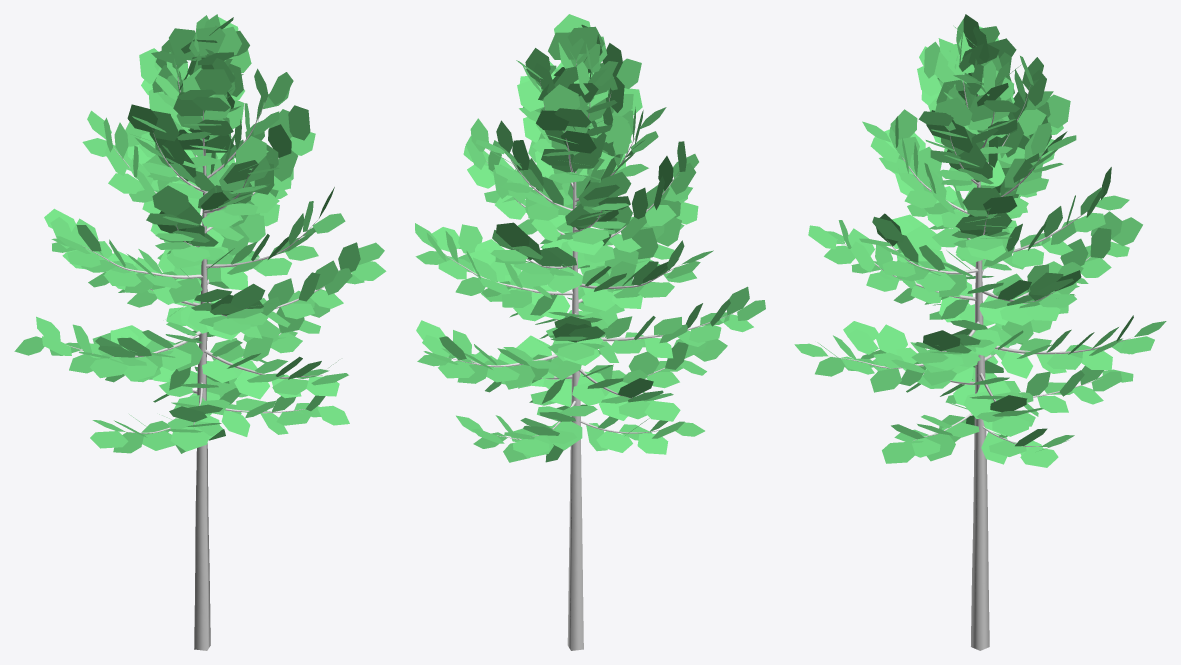
File: Qauking_Aspen_3.glb
3 views of the same model, side by side, from view 1: azimuth 30°, elevation 25°; view 2: azimuth 150°, elevation 25°; view 3: azimuth 270°, elevation 25° (orthographic). The views are drawn at different scales.
Visible parts, largest first — view 1: leaves, tree; view 2: leaves, tree; view 3: leaves, tree.
Part boxes in pixels (box(x1,y1,x2,y2)): leaves: box(14, 14, 386, 453); tree: box(67, 65, 324, 650); leaves: box(415, 14, 765, 462); tree: box(445, 59, 733, 650); leaves: box(794, 14, 1166, 467); tree: box(830, 44, 1130, 650).
Bounding box in the file's own units: 9.94 × 18.8 × 10.11.
